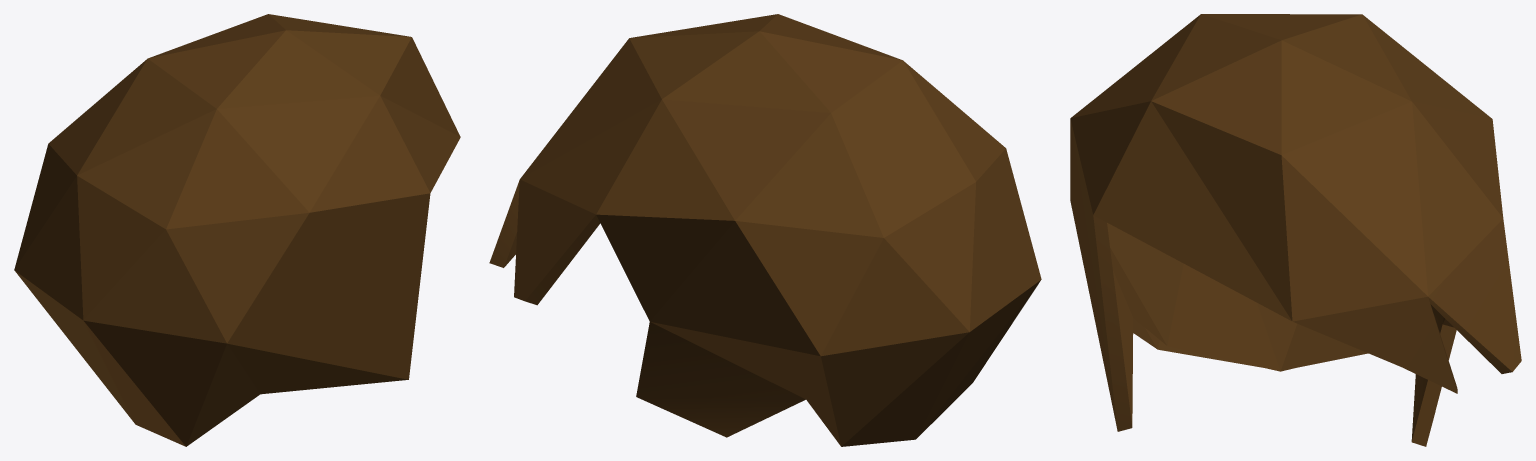
Rendered from RogerHair.glb.
The picture shows the model from 3 angles, left to right: view 1: azimuth 30°, elevation 25°; view 2: azimuth 150°, elevation 25°; view 3: azimuth 270°, elevation 25°; orthographic projection. The views are drawn at different scales.
Parts seen in each view (by area): view 1: RogerHair; view 2: RogerHair; view 3: RogerHair.
Boxes of the visible parts, x1,y1,x2,y2 form: RogerHair: (14, 14, 460, 446); RogerHair: (489, 14, 1041, 446); RogerHair: (1070, 14, 1521, 446).
Bounding box in the file's own units: 6.94 × 5.61 × 5.51.
